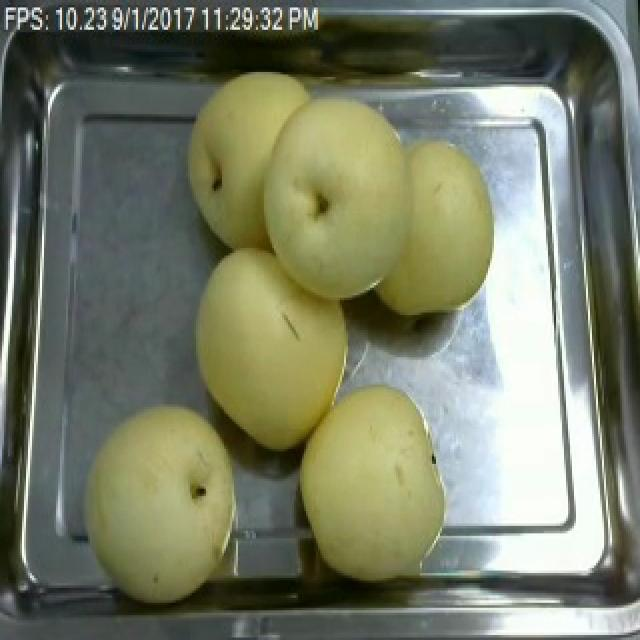Fruit: (174, 75, 434, 312), (72, 392, 252, 613), (288, 369, 460, 593), (184, 241, 360, 459)
